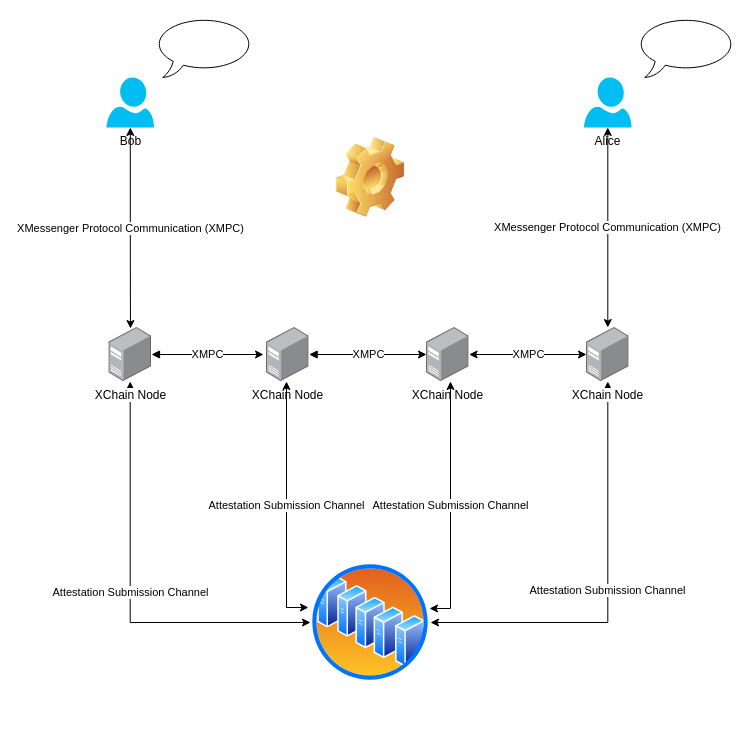
Some shapes in this 755 by 739 pixel diagram are drawn without their labels. The shapes that lost their labels are listed below. From the top down, each one's centre as x and y in pixels, then its label:
At [370,177]: "Data Processing is made by the XChain Network".
At [370,622]: "DEMOS Network (Including other L2PS)".
